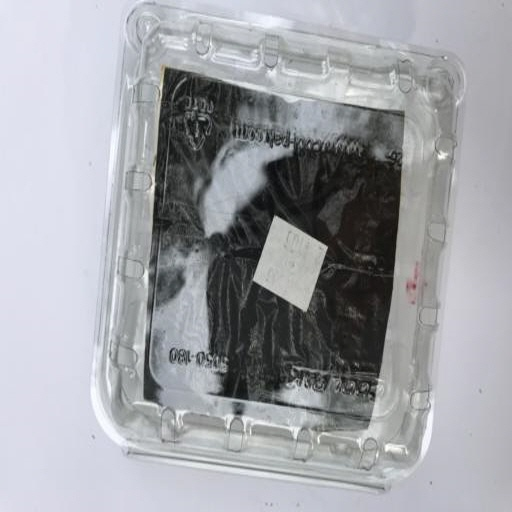Plastic_4: (90, 1, 468, 490)
